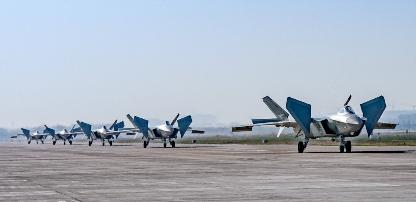F4: (232, 94, 398, 152), (105, 112, 205, 146), (60, 118, 136, 145), (31, 122, 81, 143), (10, 126, 48, 143)
